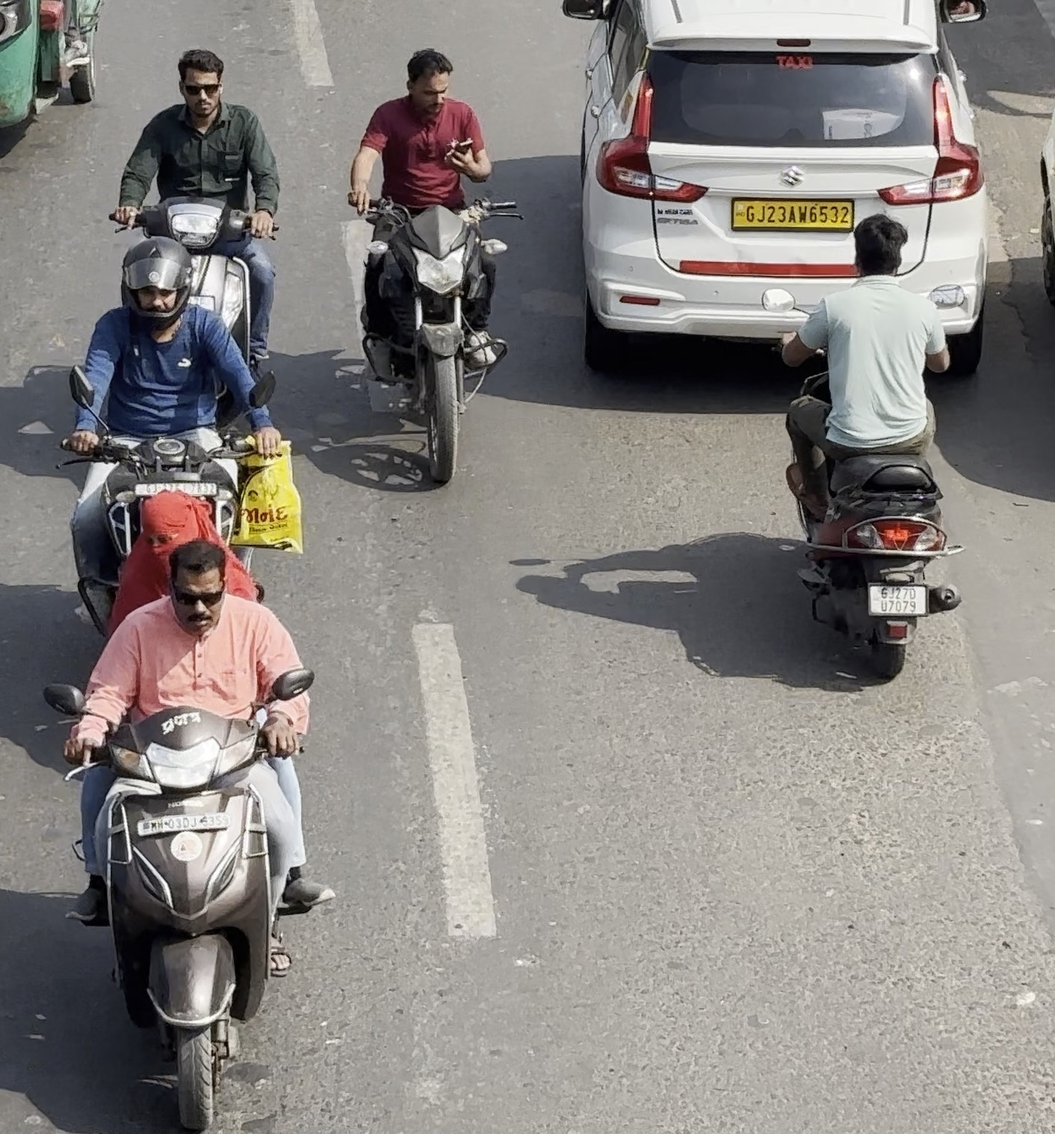BikeWithRider: (29, 484, 341, 1134), (50, 231, 279, 678), (756, 207, 970, 673), (332, 47, 530, 484), (79, 42, 293, 423)
Helmet: (103, 228, 202, 334)
NoHelmet: (154, 534, 246, 642), (120, 484, 214, 579), (834, 211, 927, 291), (163, 40, 241, 126), (396, 46, 458, 116)
